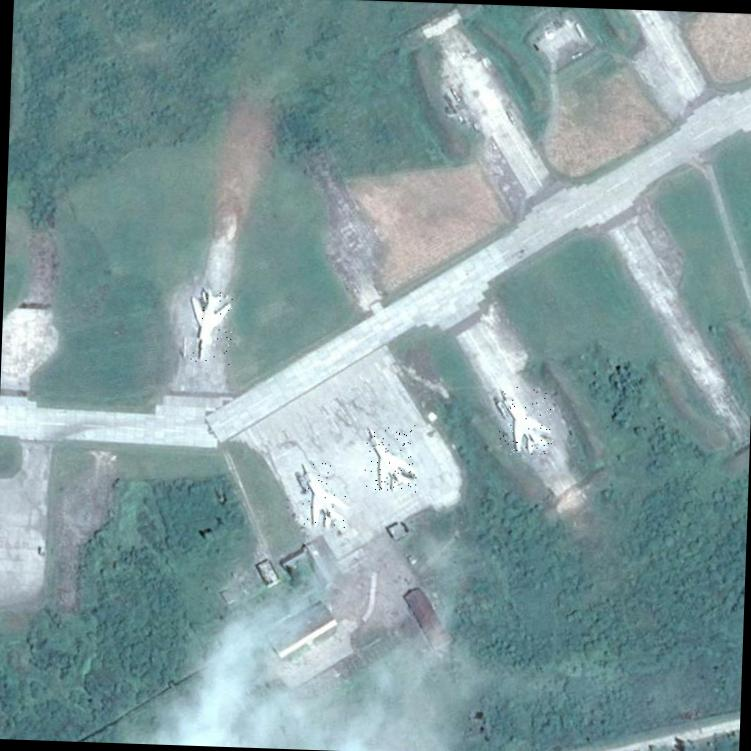A12: (497, 384, 554, 455), (297, 458, 351, 532), (363, 422, 417, 491), (186, 286, 232, 364)
